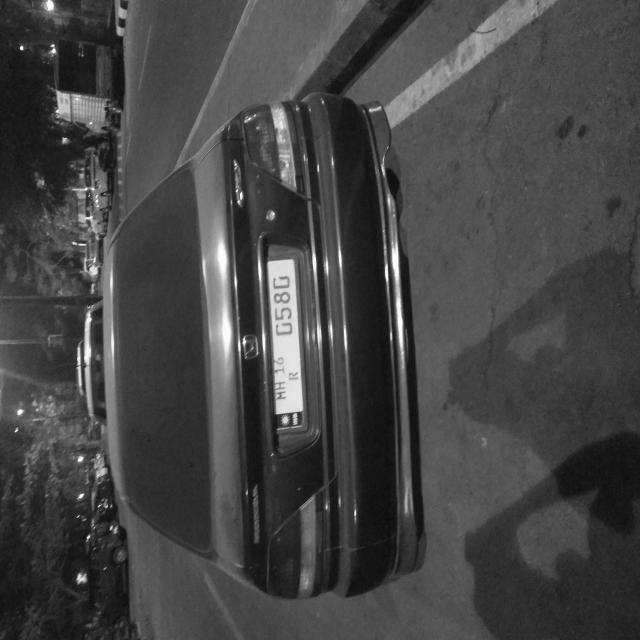car: (20, 132, 418, 574)
license-plate: (151, 353, 286, 406)
